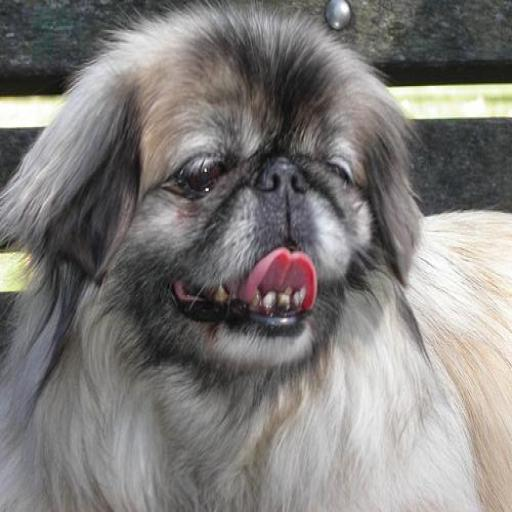dog_face: (17, 16, 408, 355)
